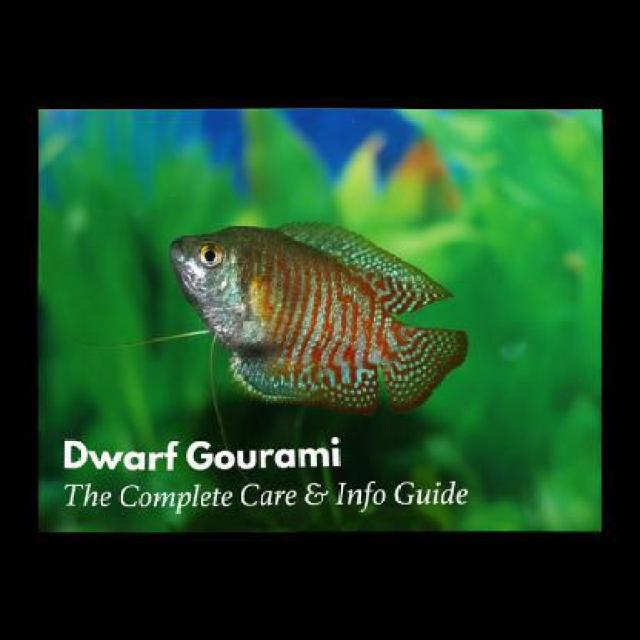Gourami: (167, 220, 464, 408)
